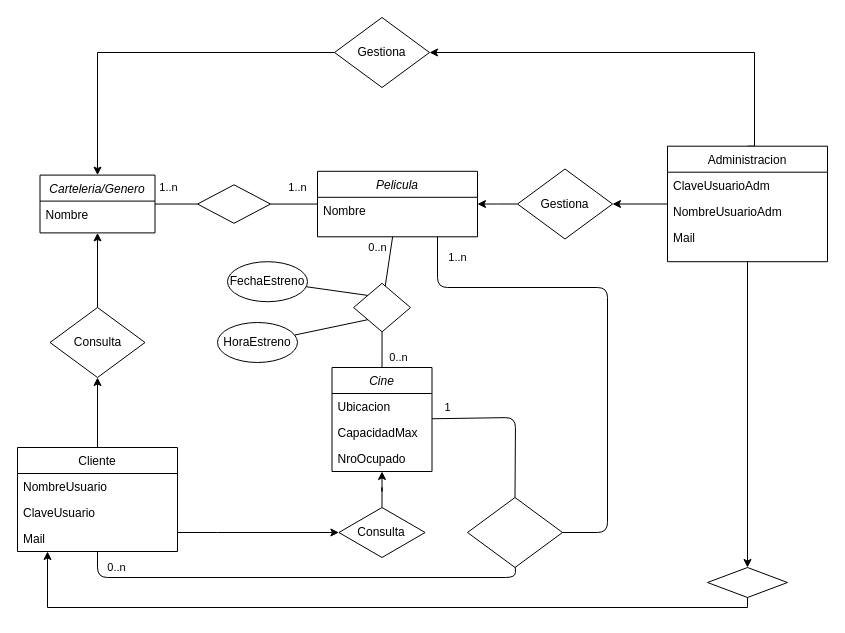
The diagram is 845 pixels wide and 633 high, and some of its shapes have lost their labels. The centre of each missing label's shape, as x and y in pixels:
Controla: point (747, 582)
Estrena: point (381, 307)
Peliculas: point (233, 203)
Peliculas Inscriptas: point (514, 532)
